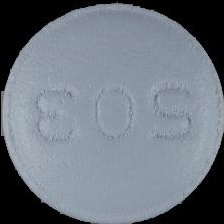0378-0503: (0, 0, 224, 224)
